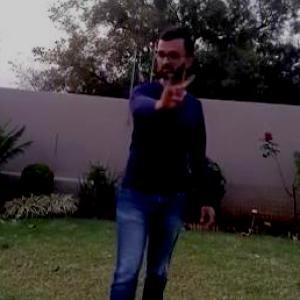takeoff-hand: (152, 66, 195, 114)
